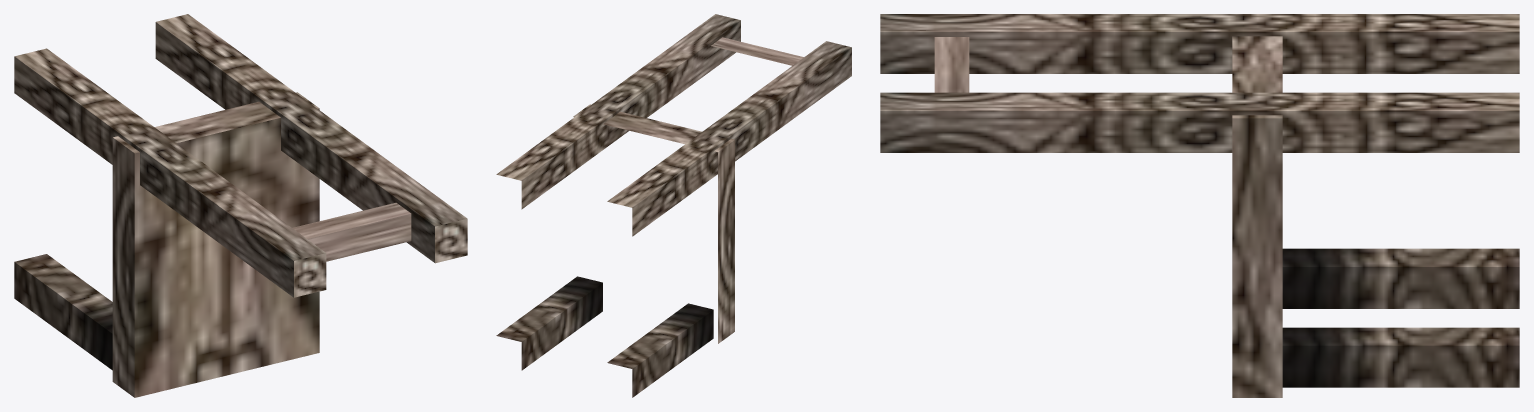
File: Furniture06.glb
3 views of the same model, side by side, from view 1: azimuth 30°, elevation 25°; view 2: azimuth 150°, elevation 25°; view 3: azimuth 270°, elevation 25° (orthographic). The views are drawn at different scales.
Visible parts, largest first — view 1: model_Furniture06; view 2: model_Furniture06; view 3: model_Furniture06.
Boxes of the visible parts, x1,y1,x2,y2 form: model_Furniture06: (14, 14, 467, 397); model_Furniture06: (496, 14, 851, 397); model_Furniture06: (880, 14, 1519, 397).
Size of the model in its own units: 0.4231 by 0.5434 by 1.11.
Materials: 2 (2 with a texture image).
